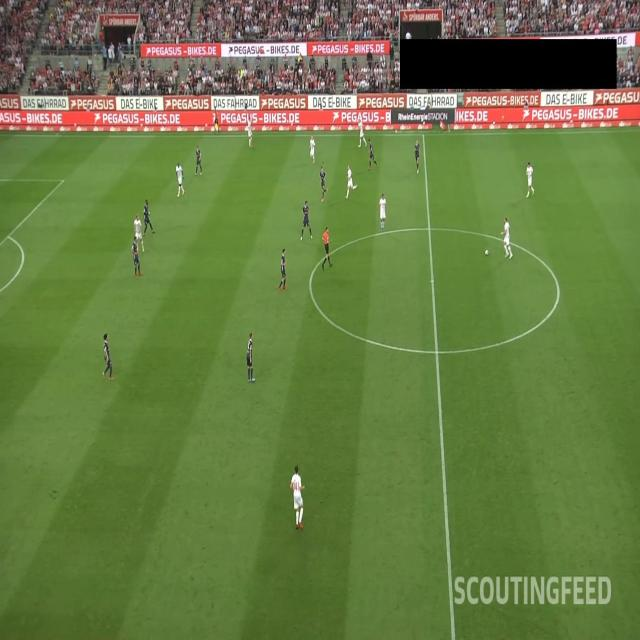ball: (485, 249, 489, 256)
